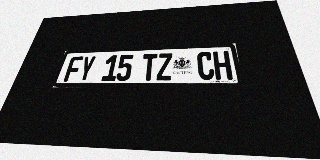1: (101, 55, 120, 81)
5: (116, 54, 134, 81)
C: (197, 52, 215, 80)
F: (63, 56, 84, 82)
H: (213, 51, 233, 80)
T: (141, 54, 157, 81)
Y: (77, 56, 96, 81)
Z: (156, 53, 172, 81)
